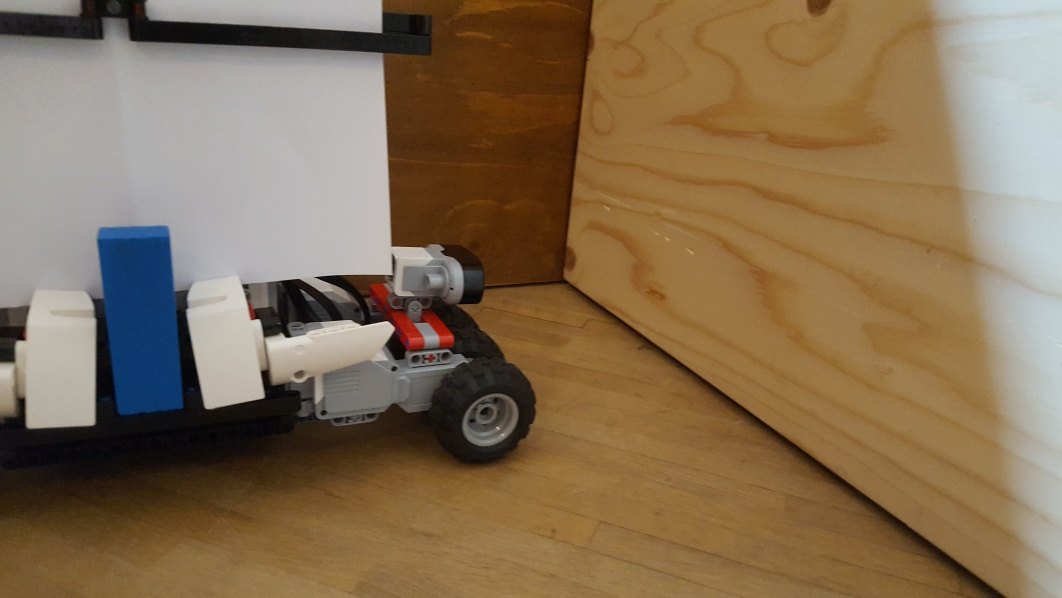beam: (95, 224, 188, 421)
